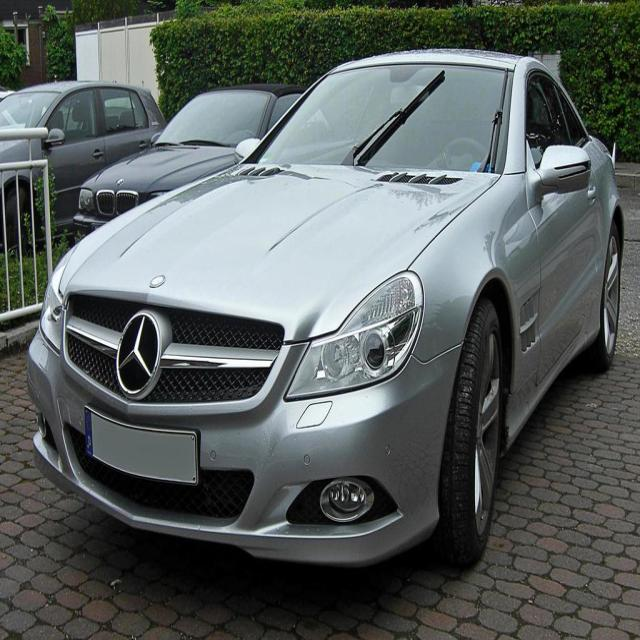car: (24, 45, 629, 575)
